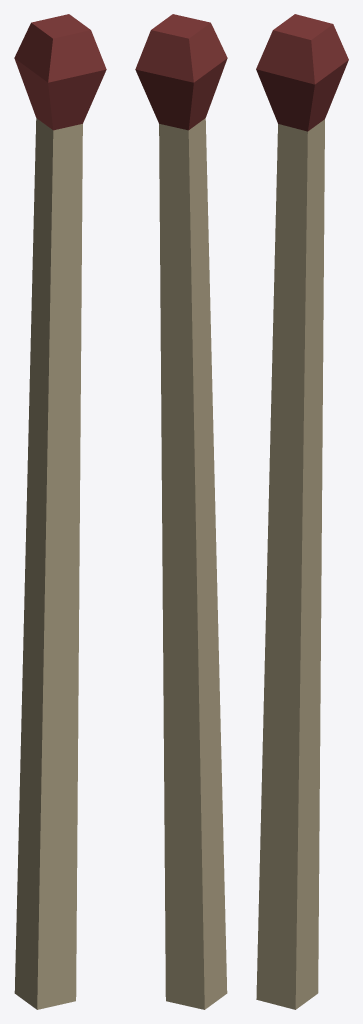
Rendered from Match.glb.
3 renders of one model, left to right at view 1: azimuth 30°, elevation 25°; view 2: azimuth 150°, elevation 25°; view 3: azimuth 330°, elevation 25°, orthographic.
Parts seen in each view (by area): view 1: Match; view 2: Match; view 3: Match.
Boxes of the visible parts, bbox=[...] form: Match: bbox=[14, 14, 106, 1009]; Match: bbox=[135, 14, 227, 1009]; Match: bbox=[256, 14, 348, 1009].
Bounding box in the file's own units: 0.0103 × 0.1499 × 0.00949.
